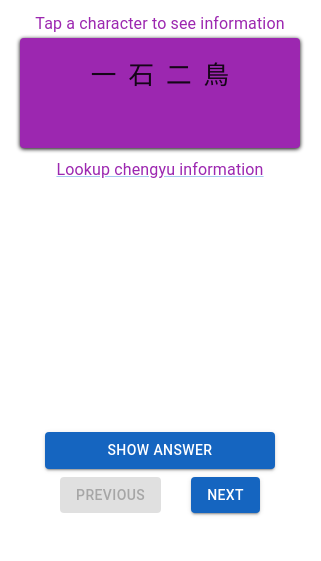
it: TestChengyusTest › shows an error message when character lookup returns non-ok response
The width and height of the screenshot is (321, 561).
Click the button named "Show details for 一" at (104, 72), box [85, 48, 122, 97]
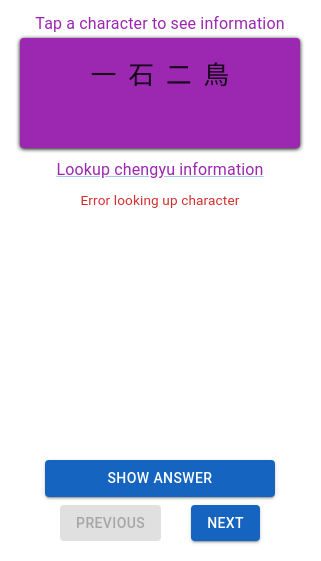
Expected: the message reads "Error looking up character", [80, 192, 240, 208]
